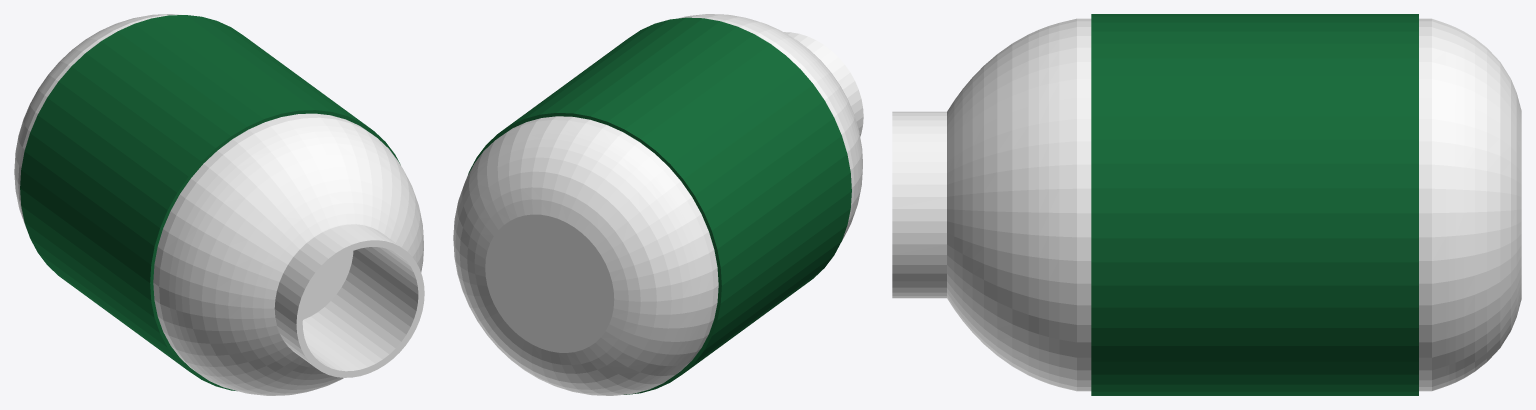
The model's file is tinker.obj.
The picture shows the model from 3 angles, left to right: view 1: azimuth 30°, elevation 25°; view 2: azimuth 150°, elevation 25°; view 3: azimuth 270°, elevation 25°; orthographic projection. The views are drawn at different scales.
Visible parts, largest first — view 1: obj_1, obj_0; view 2: obj_1, obj_0; view 3: obj_0, obj_1.
Part boxes in pixels (x1=…): obj_1: x1=14, y1=14, x2=424, y2=395; obj_0: x1=20, y1=15, x2=400, y2=390; obj_1: x1=453, y1=14, x2=863, y2=395; obj_0: x1=468, y1=17, x2=851, y2=394; obj_0: x1=1091, y1=14, x2=1418, y2=395; obj_1: x1=892, y1=18, x2=1521, y2=391.
Size of the model in its own units: 4.1 by 4.1 by 6.75.
